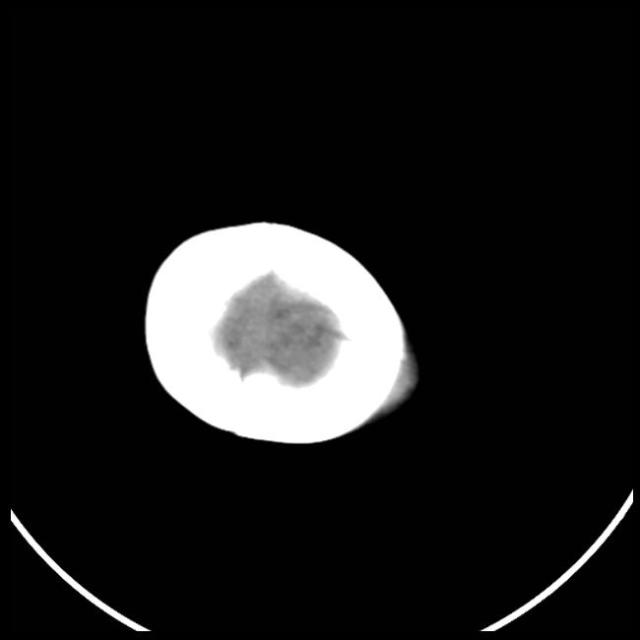lesion: (141, 218, 419, 448)
